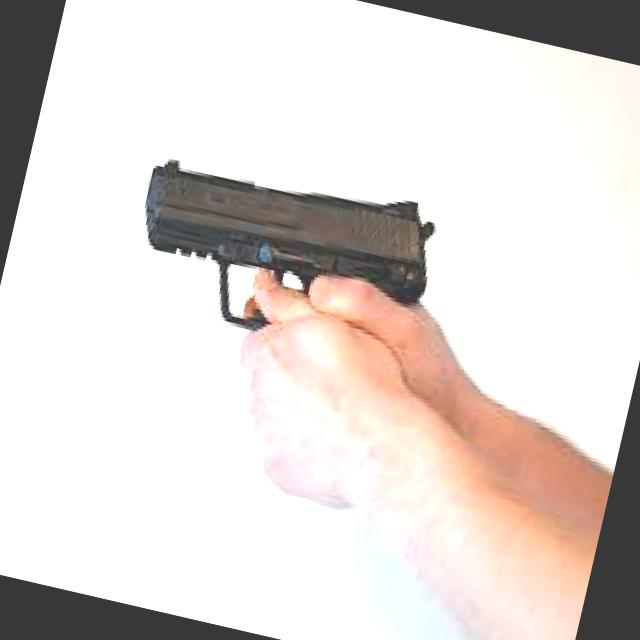handgun: (122, 127, 441, 365)
